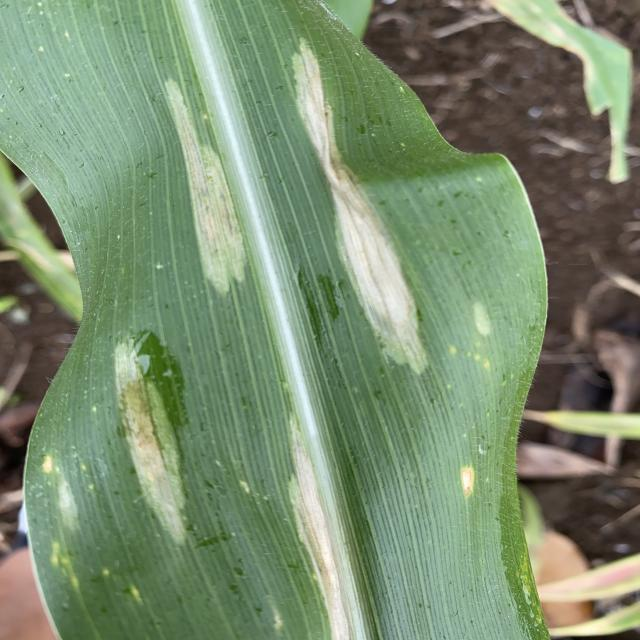Corn_Leaf_Blight: (8, 0, 555, 640)
